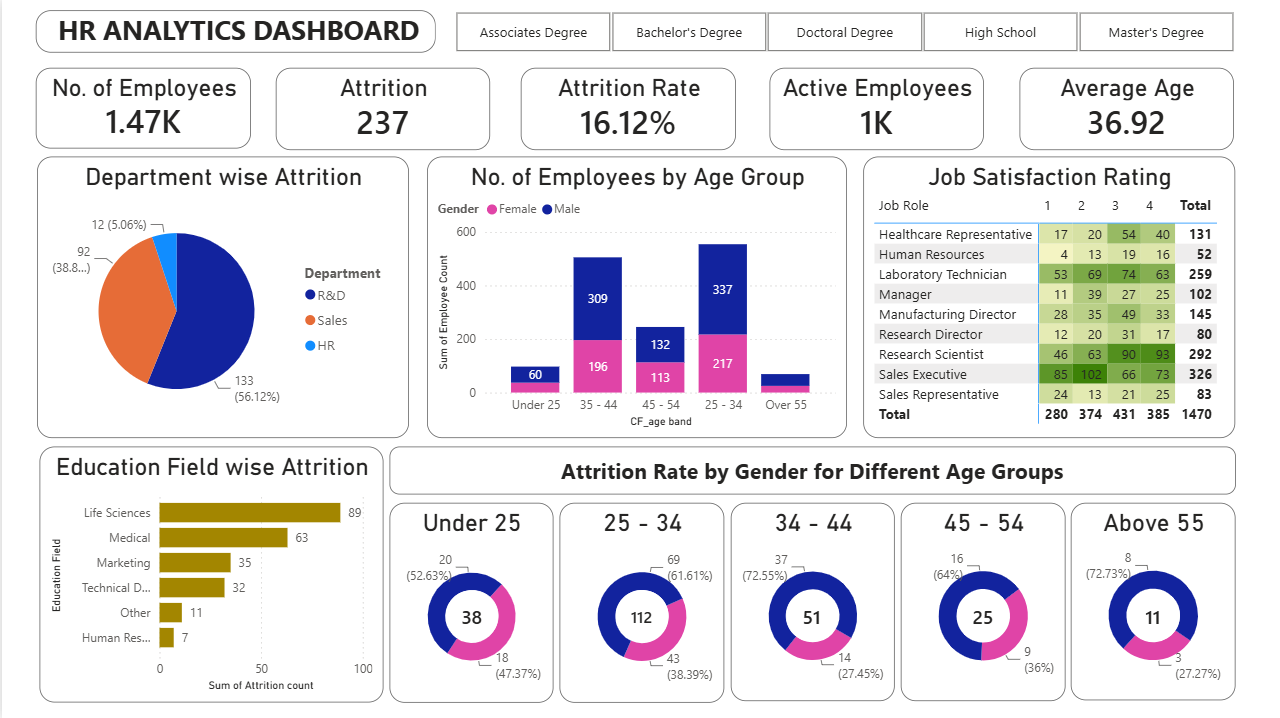

Layout of this report page (visuals, bound fields, positions):
{"tool":"powerbi","page":{"name":"Page 1","canvas":[1280,720],"ordinal":0},"visuals":[{"type":"cardVisual","title":"No. of Employees","fields":{"Data":["CountNonNull(Table_1.Employee Count)"]},"box":[34.3,69,215.6,81.1],"z":0},{"type":"cardVisual","title":"Attrition ","fields":{"Data":["Sum(Table_1.Attrition column)"]},"box":[274.3,69,214.4,82.2],"z":1000},{"type":"cardVisual","title":"Attrition Rate","fields":{"Data":["Table_1.Attrition Rate"]},"box":[518.7,69,215.6,82.2],"z":2000},{"type":"cardVisual","title":"Active Employees","fields":{"Data":["Table_1.Active Employees"]},"box":[767.6,69,214.4,82.2],"z":3000},{"type":"cardVisual","title":"Average Age","fields":{"Data":["Avg(Table_1.Age)"]},"box":[1017.6,69,214.4,82.2],"z":4000},{"type":"pieChart","title":"Department wise Attrition","fields":{"Category":["Table_1.Department"],"Y":["Sum(Table_1.Attrition count)"]},"box":[34.8,157.7,371.7,281.7],"z":5000},{"type":"columnChart","title":"No. of Employees by Age Group","fields":{"Category":["Table_1.CF_age band"],"Y":["Sum(Table_1.Employee Count)"],"Series":["Table_1.Gender"]},"box":[424.8,157.7,420,281.7],"z":6000},{"type":"pivotTable","title":"Job Satisfaction Rating","fields":{"Rows":["Table_1.Job Role"],"Columns":["Table_1.Job Satisfaction"],"Values":["Sum(Table_1.Employee Count)"]},"box":[861.5,157.7,371.7,281.7],"z":7000},{"type":"barChart","title":"Education Field wise Attrition","fields":{"Category":["Table_1.Education Field"],"Y":["Sum(Table_1.Attrition count)"]},"box":[37,447,344,256],"z":8000},{"type":"donutChart","title":"Under 25","fields":{"Category":["Table_1.Gender"],"Y":["Sum(Table_1.Attrition count)"],"Series":["Table_1.CF_age band"]},"box":[387.7,503.8,163.8,200],"z":9000},{"type":"textbox","box":[388,447,846,48],"z":10000},{"type":"donutChart","title":"25 - 34","fields":{"Category":["Table_1.Gender"],"Y":["Sum(Table_1.Attrition count)"],"Series":["Table_1.CF_age band"]},"box":[557.7,503.8,164.6,200],"z":11000},{"type":"donutChart","title":"34 - 44","fields":{"Category":["Table_1.Gender"],"Y":["Sum(Table_1.Attrition count)"],"Series":["Table_1.CF_age band"]},"box":[728.5,503.8,163.8,198.5],"z":12000},{"type":"donutChart","title":"45 - 54","fields":{"Category":["Table_1.Gender"],"Y":["Sum(Table_1.Attrition count)"],"Series":["Table_1.CF_age band"]},"box":[898.5,503.8,164.6,198.5],"z":13000},{"type":"donutChart","title":"Above 55","fields":{"Category":["Table_1.Gender"],"Y":["Sum(Table_1.Attrition count)"],"Series":["Table_1.CF_age band"]},"box":[1069.2,503.8,164.6,197.7],"z":14000},{"type":"cardVisual","fields":{"Data":["Sum(Table_1.Attrition count)"]},"box":[443.2,591.6,52.6,51.6],"z":15000},{"type":"cardVisual","fields":{"Data":["Sum(Table_1.Attrition count)"]},"box":[613.7,591.6,52.6,51.6],"z":16000},{"type":"cardVisual","fields":{"Data":["Sum(Table_1.Attrition count)"]},"box":[784.2,591.6,52.6,51.6],"z":17000},{"type":"cardVisual","fields":{"Data":["Sum(Table_1.Attrition count)"]},"box":[954.7,591.6,52.1,51.6],"z":18000},{"type":"cardVisual","fields":{"Data":["Sum(Table_1.Attrition count)"]},"box":[1125.3,591.6,52.6,51.6],"z":19000},{"type":"textbox","box":[33.8,11.2,400,42.5],"z":20000},{"type":"slicer","fields":{"Values":["Table_1.Education"]},"box":[433.6,11.8,816.4,42.7],"z":21000}]}

Visuals, with their boxes in screenshot pixels (x1, y1, x2, y2), scaled from the page's 1280x720 canvas onto the 1280x718 screenshot:
"No. of Employees" cardVisual: detection(34, 69, 250, 150)
"Attrition " cardVisual: detection(274, 69, 489, 151)
"Attrition Rate" cardVisual: detection(519, 69, 734, 151)
"Active Employees" cardVisual: detection(768, 69, 982, 151)
"Average Age" cardVisual: detection(1018, 69, 1232, 151)
"Department wise Attrition" pieChart: detection(35, 157, 406, 438)
"No. of Employees by Age Group" columnChart: detection(425, 157, 845, 438)
"Job Satisfaction Rating" pivotTable: detection(862, 157, 1233, 438)
"Education Field wise Attrition" barChart: detection(37, 446, 381, 701)
"Under 25" donutChart: detection(388, 502, 552, 702)
textbox: detection(388, 446, 1234, 494)
"25 - 34" donutChart: detection(558, 502, 722, 702)
"34 - 44" donutChart: detection(728, 502, 892, 700)
"45 - 54" donutChart: detection(898, 502, 1063, 700)
"Above 55" donutChart: detection(1069, 502, 1234, 700)
cardVisual - Sum(Table_1.Attrition count): detection(443, 590, 496, 641)
cardVisual - Sum(Table_1.Attrition count): detection(614, 590, 666, 641)
cardVisual - Sum(Table_1.Attrition count): detection(784, 590, 837, 641)
cardVisual - Sum(Table_1.Attrition count): detection(955, 590, 1007, 641)
cardVisual - Sum(Table_1.Attrition count): detection(1125, 590, 1178, 641)
textbox: detection(34, 11, 434, 54)
slicer - Table_1.Education: detection(434, 12, 1250, 54)
